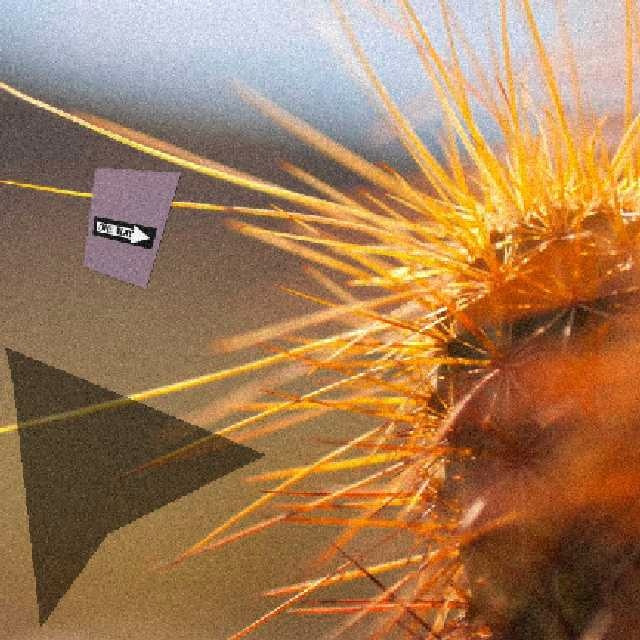ONE_WAY_ right: (89, 213, 156, 248)
